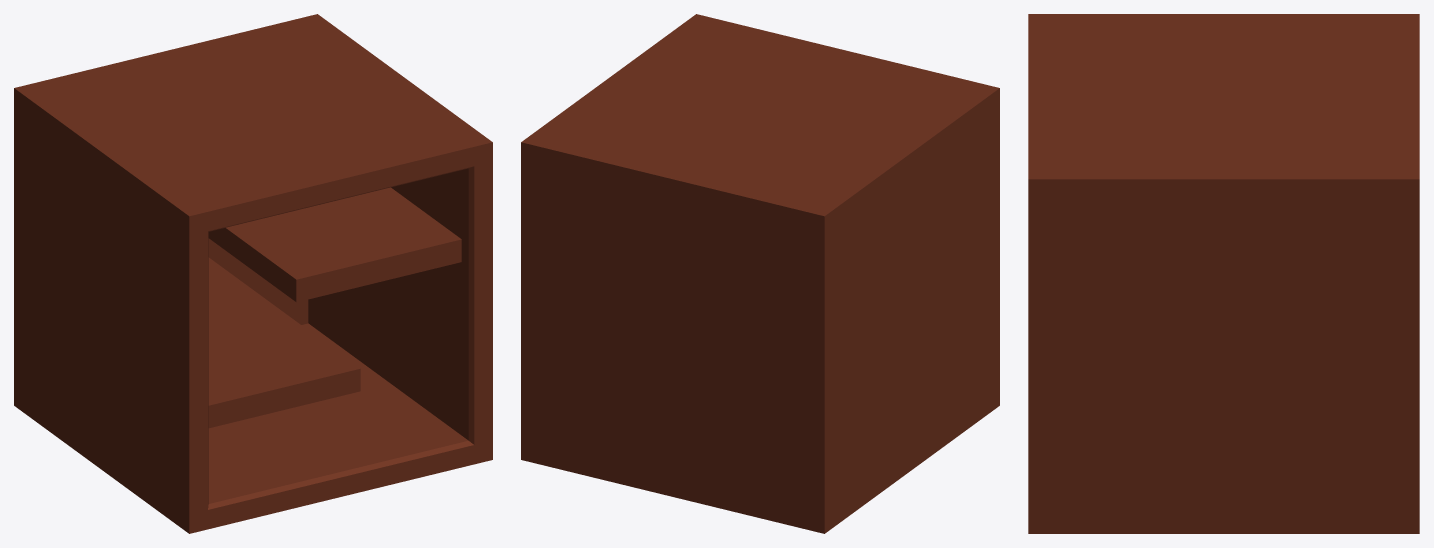
File: Book_Shelves_Mod03.fbx
3 renders of one model, left to right at view 1: azimuth 30°, elevation 25°; view 2: azimuth 150°, elevation 25°; view 3: azimuth 270°, elevation 25°, orthographic. The views are drawn at different scales.
Parts seen in each view (by area): view 1: Book_Shelves_Mod03; view 2: Book_Shelves_Mod03; view 3: Book_Shelves_Mod03.
Part boxes in pixels (x1=…): Book_Shelves_Mod03: x1=14, y1=14, x2=492, y2=533; Book_Shelves_Mod03: x1=521, y1=14, x2=999, y2=533; Book_Shelves_Mod03: x1=1028, y1=14, x2=1419, y2=533.
Bounding box in the file's own units: 70 × 70 × 70.
Materials: 1 (1 with a texture image).
